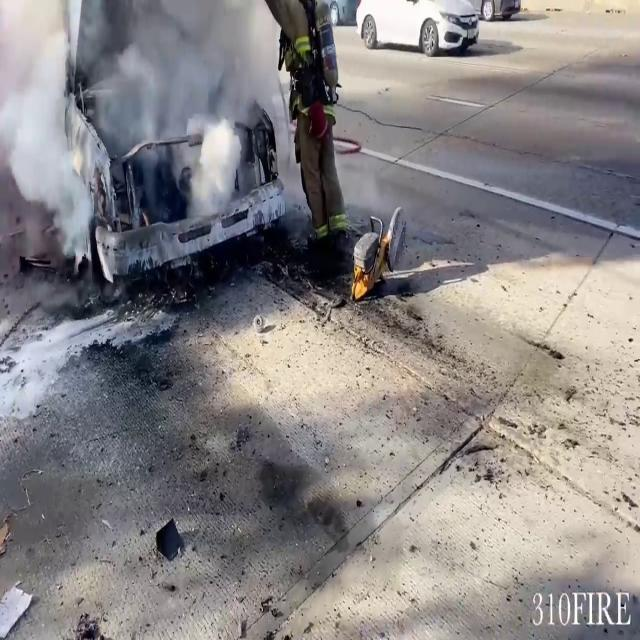Smoke: (0, 0, 286, 250)
